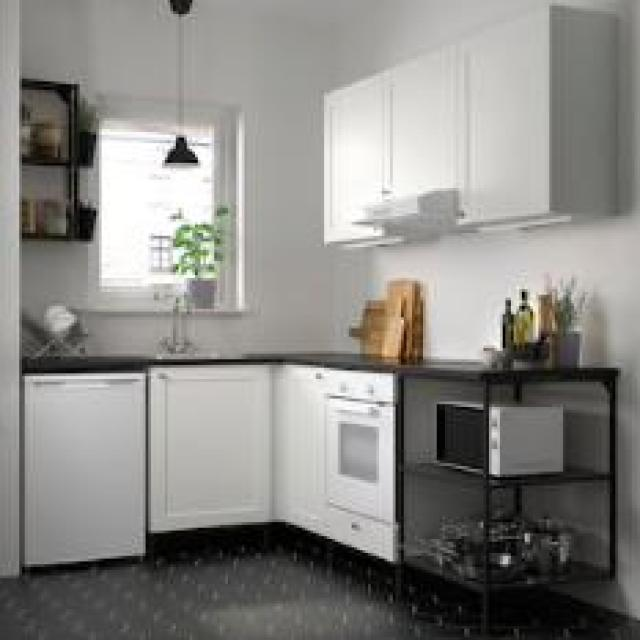dishwasher: (19, 368, 143, 567)
